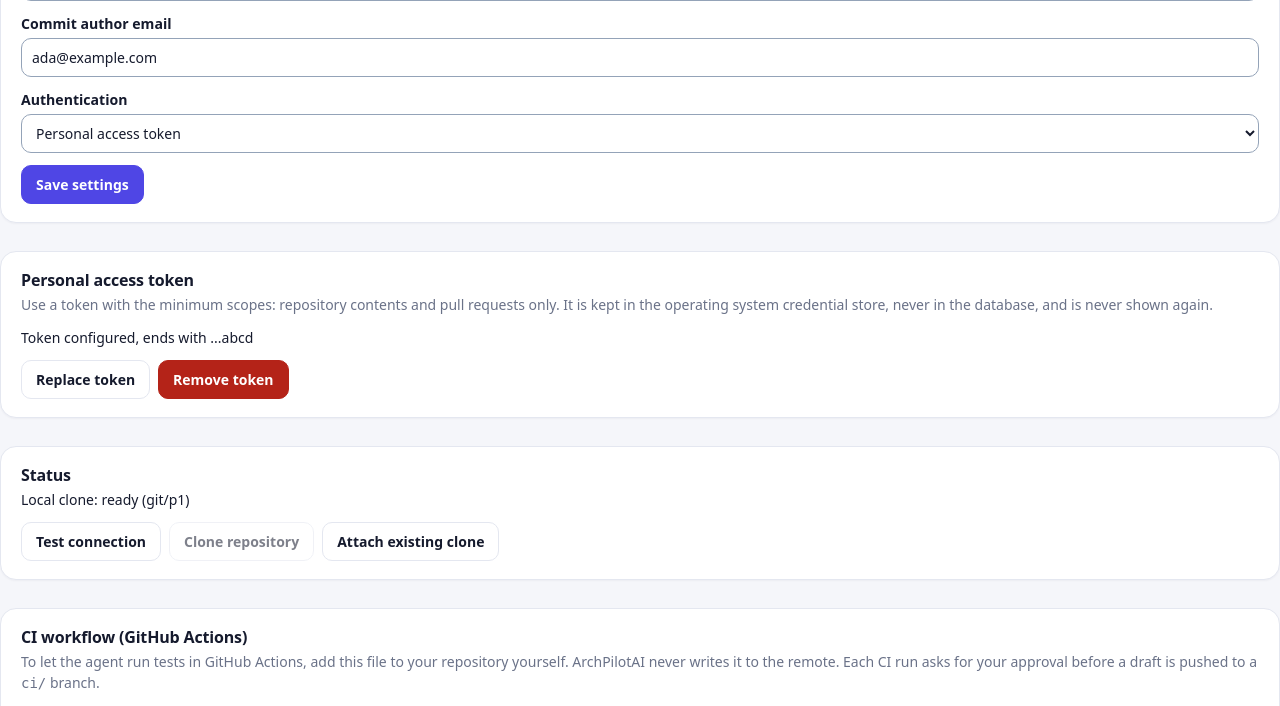
Test case: git repository UI › tests the connection only on request
This screenshot has width=1280, height=706.
(page scrolled)
Click the button "Test connection": {"x": 91, "y": 541} [21,522,161,561]
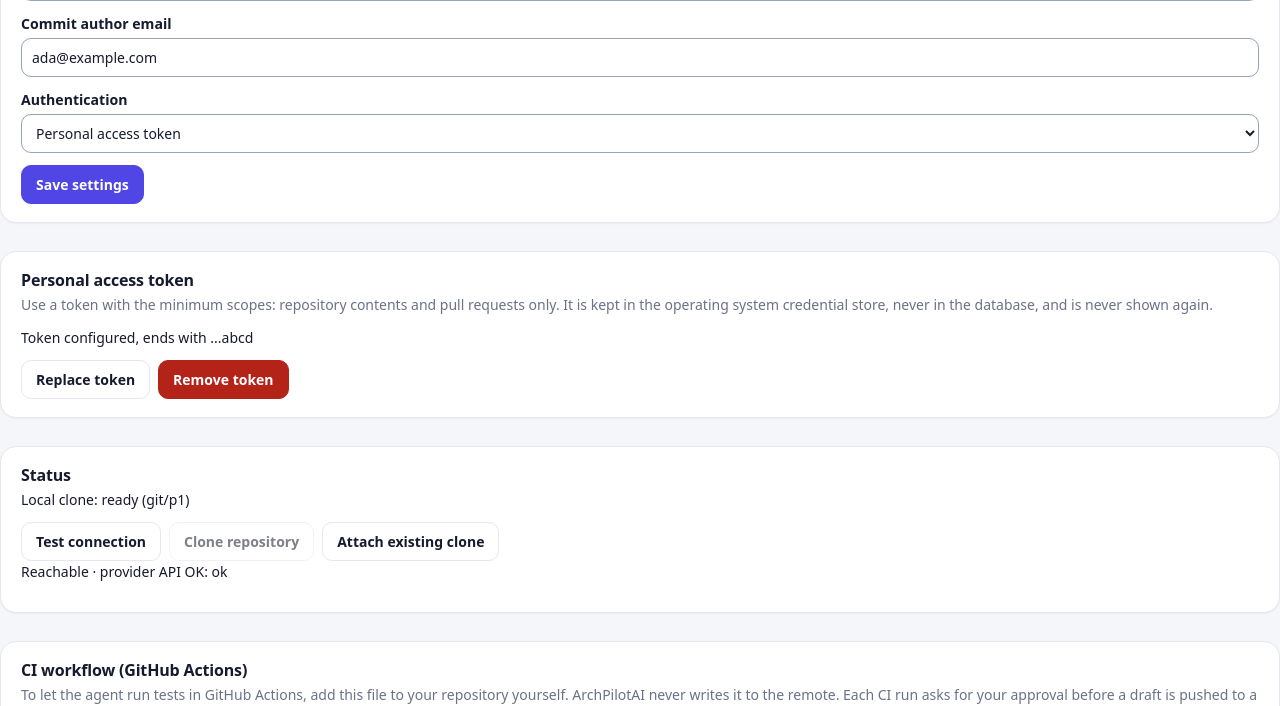
Expected: the text "Reachable · provider API OK: ok" is shown, [21,562,228,581]
